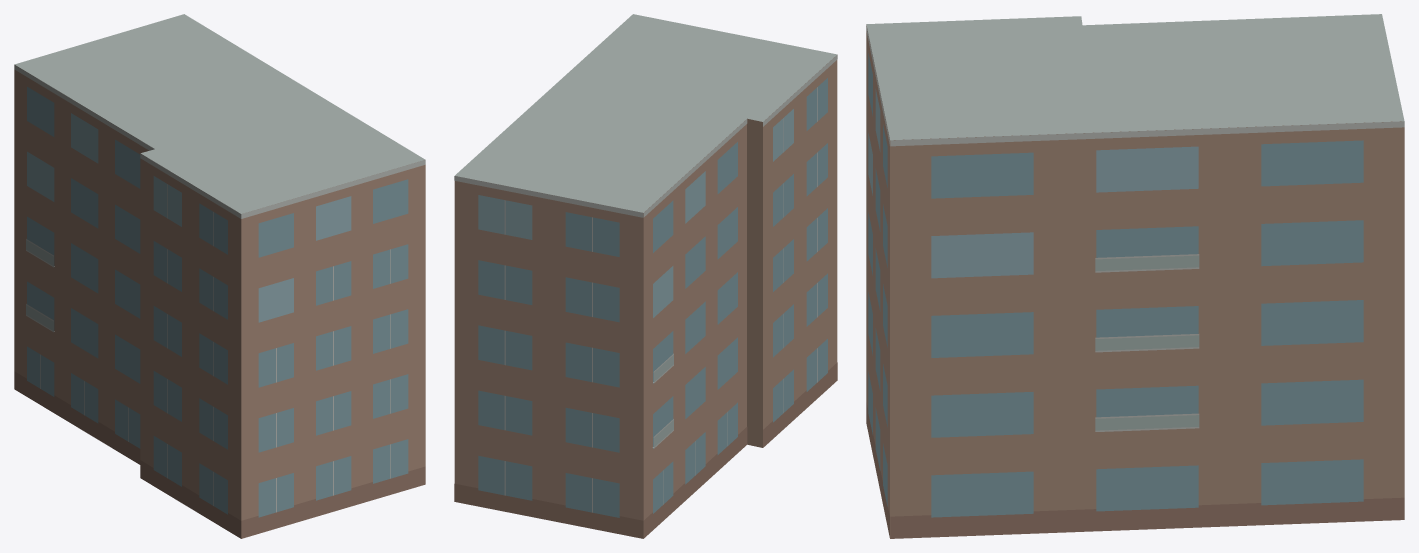
Rendered from survey-upis-32655292.glb.
3 views of the same model, side by side, from view 1: azimuth 30°, elevation 25°; view 2: azimuth 150°, elevation 25°; view 3: azimuth 270°, elevation 25° (orthographic). The views are drawn at different scales.
Parts seen in each view (by area): view 1: survey-upis-32655292.tmp; view 2: survey-upis-32655292.tmp; view 3: survey-upis-32655292.tmp.
Boxes of the visible parts, x1,y1,x2,y2 form: survey-upis-32655292.tmp: (14, 14, 425, 538); survey-upis-32655292.tmp: (454, 14, 837, 538); survey-upis-32655292.tmp: (866, 14, 1404, 538).
Bounding box in the file's own units: 10.81 × 15.9 × 19.47.
